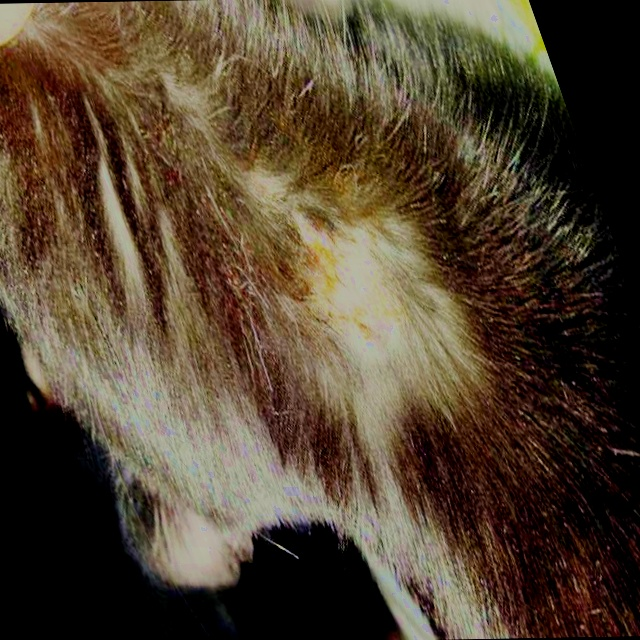ringworm: (275, 233, 411, 351)
